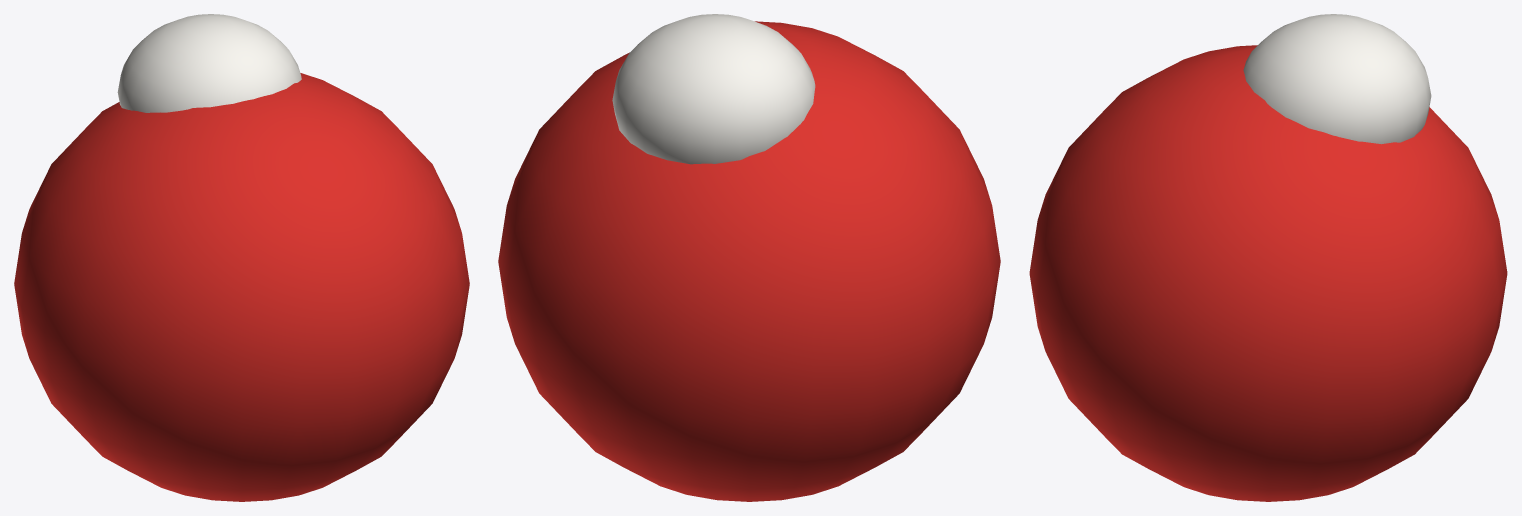
File: e_egg.glb
3 views of the same model, side by side, from view 1: azimuth 30°, elevation 25°; view 2: azimuth 150°, elevation 25°; view 3: azimuth 270°, elevation 25° (orthographic). The views are drawn at different scales.
Visible parts, largest first — view 1: ee_shell.005, ee_cap.005; view 2: ee_shell.005, ee_cap.005; view 3: ee_shell.005, ee_cap.005.
Boxes of the visible parts, x1=… form: ee_shell.005: x1=14, y1=73, x2=469, y2=501; ee_cap.005: x1=117, y1=14, x2=301, y2=112; ee_shell.005: x1=498, y1=21, x2=1000, y2=501; ee_cap.005: x1=612, y1=14, x2=815, y2=164; ee_shell.005: x1=1029, y1=45, x2=1507, y2=501; ee_cap.005: x1=1243, y1=14, x2=1431, y2=144.
Size of the model in its own units: 0.44 by 0.461 by 0.44.
